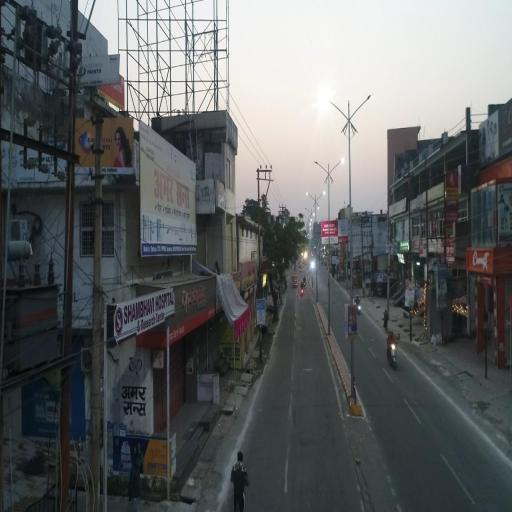building: (0, 3, 118, 502), (49, 101, 193, 504), (154, 113, 241, 417), (388, 114, 464, 359), (468, 98, 512, 372), (332, 193, 386, 300), (235, 214, 270, 375)
electric_pole: (52, 0, 81, 508), (89, 110, 109, 506), (252, 156, 284, 373)
streetlight: (326, 88, 376, 310), (311, 136, 350, 320), (300, 188, 329, 300)
